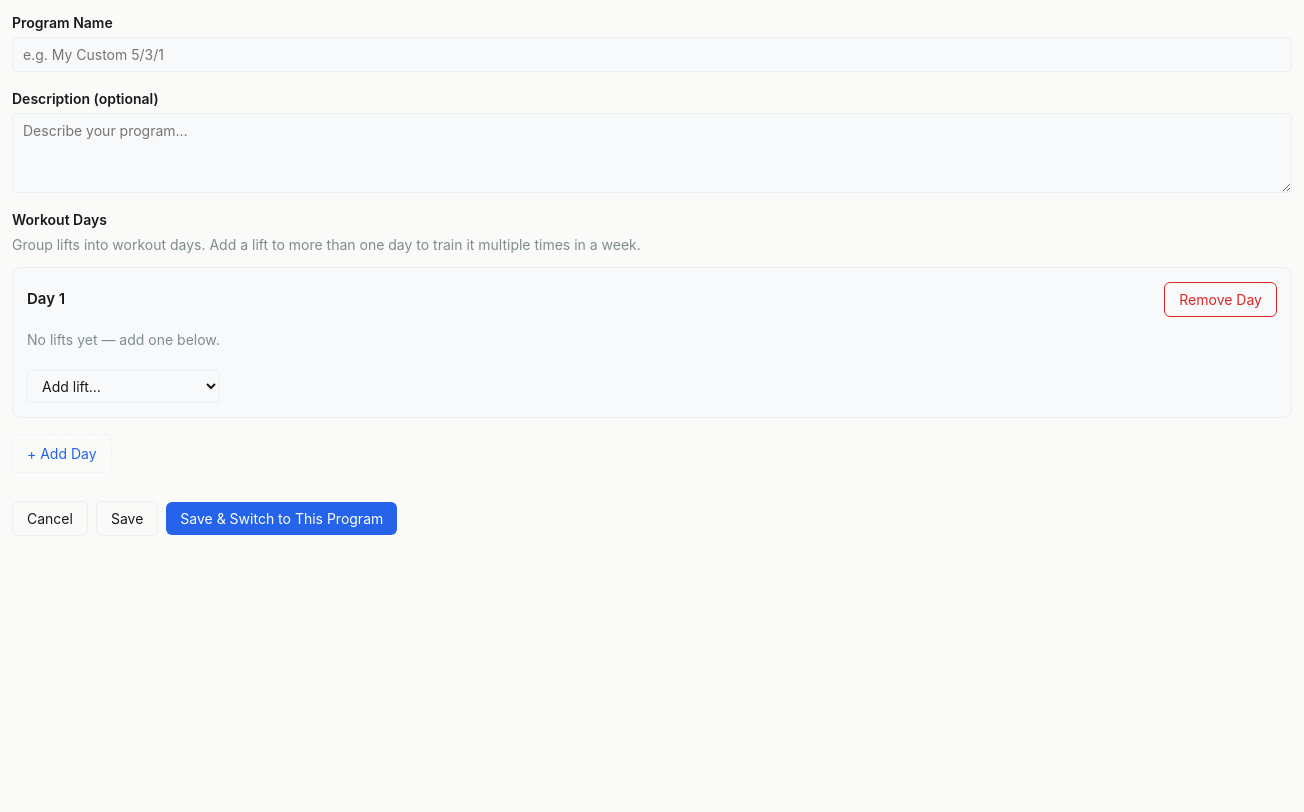
it: ProgramEditor — new instances seed from the configured weight increment › seeds a new lift instance with the user-configured default
Select "Back Squat" in the dropdown named "Add lift to Day 1" at (124,386), box [27,370,220,403]
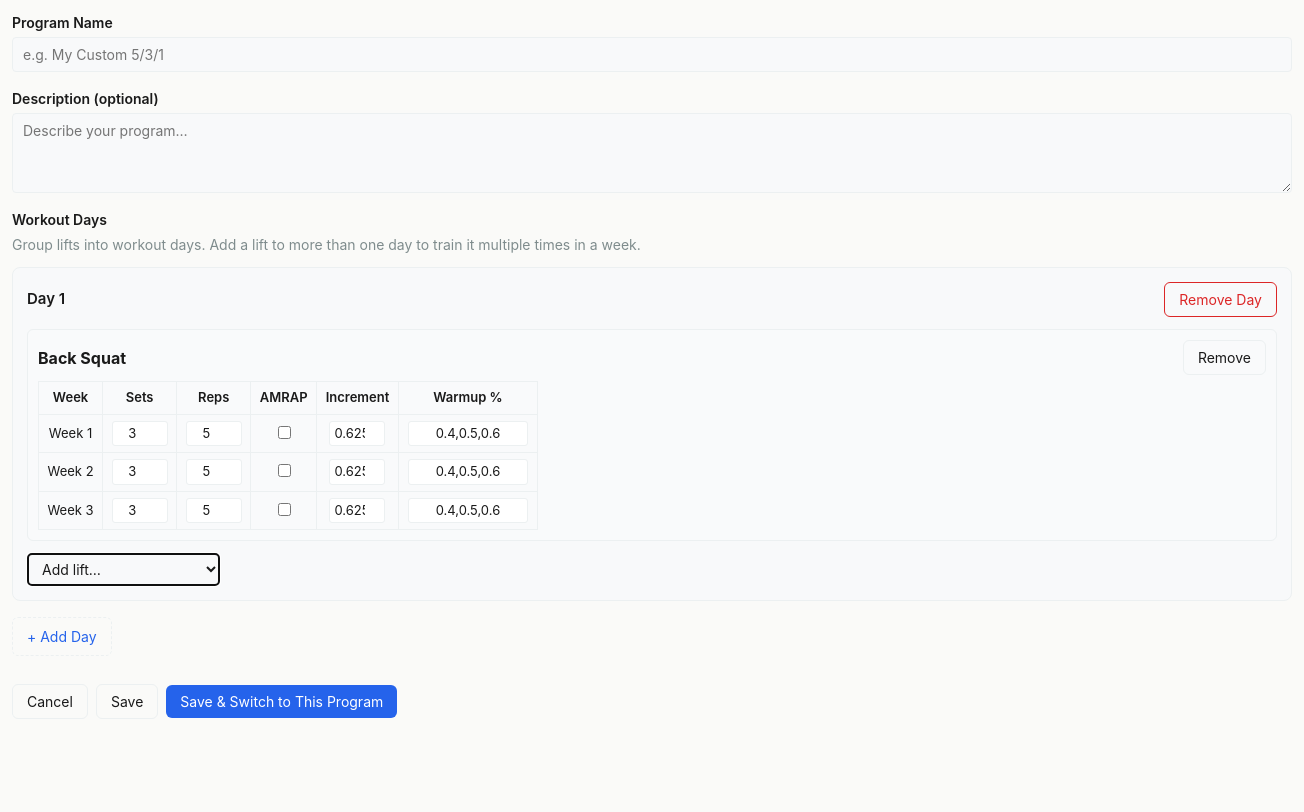
Check: the number of number fields showing "0.625" is 3, box [330,420,386,446]; [330,459,386,484]; [330,498,386,523]
